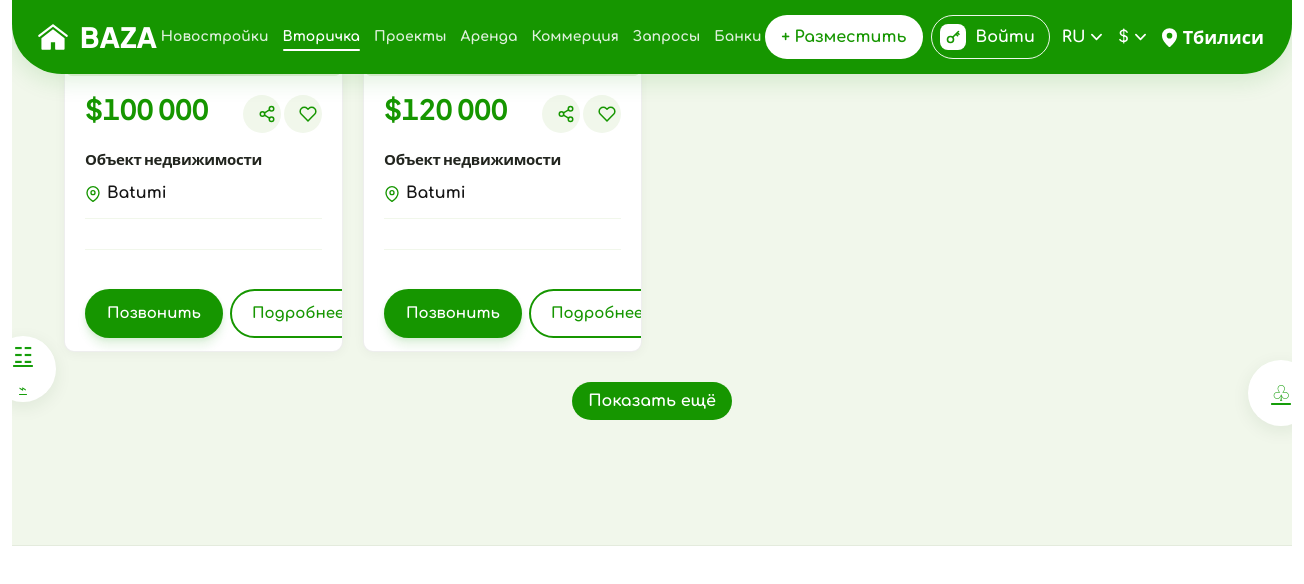
Scenario: Cursor Pagination & Deduplication Acceptance › appends items on "Показать ещё" and deduplicates overlapping IDs
(page scrolled)
Click the button "Показать ещё": (652, 401) [572,382,732,420]
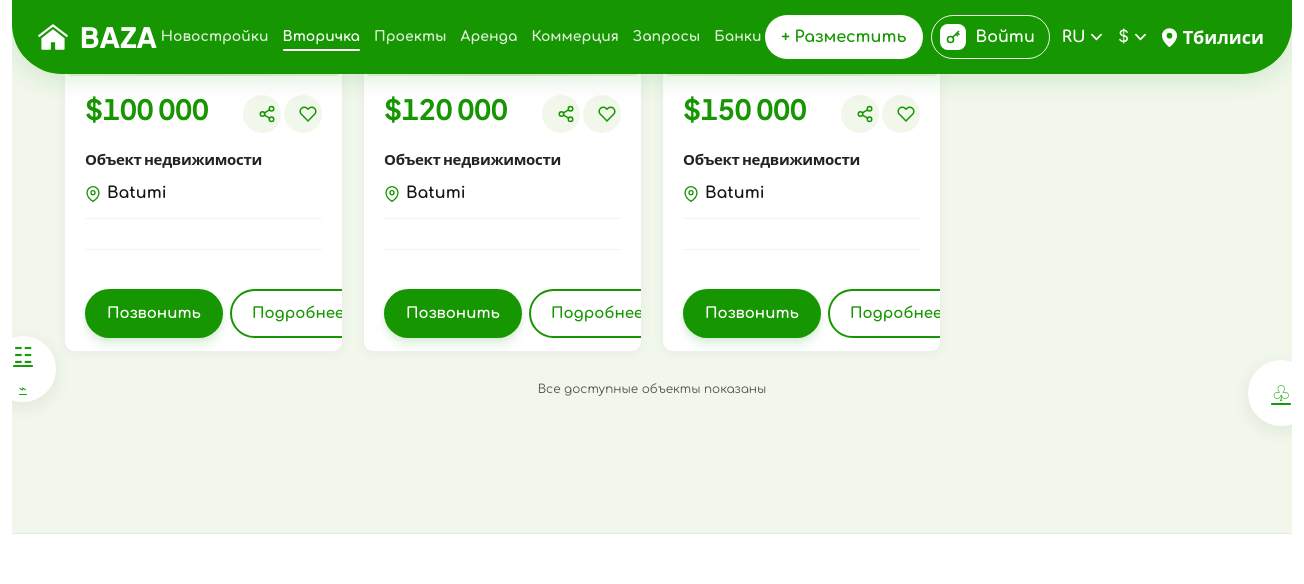
Check: the button "Показать ещё" is gone
Check: the text "Все доступные объекты показаны" is shown, box [538,382,766,396]
